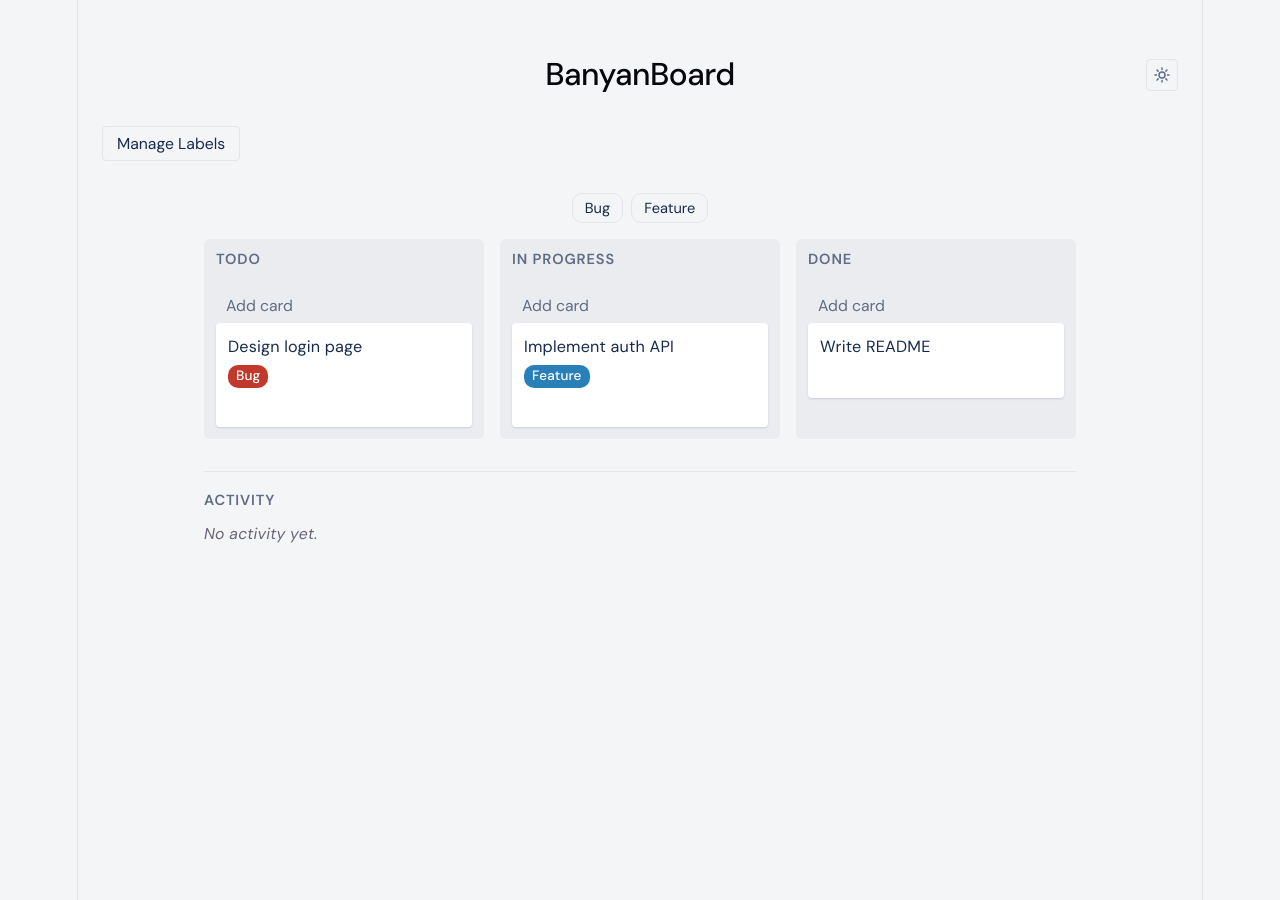
Test: Board label filtering › shows all cards when the filter is cleared
Expected: the text "Design login page" is shown, [228,336,362,357]
Click the button "Bug" at (597, 208), box [572,193,623,223]
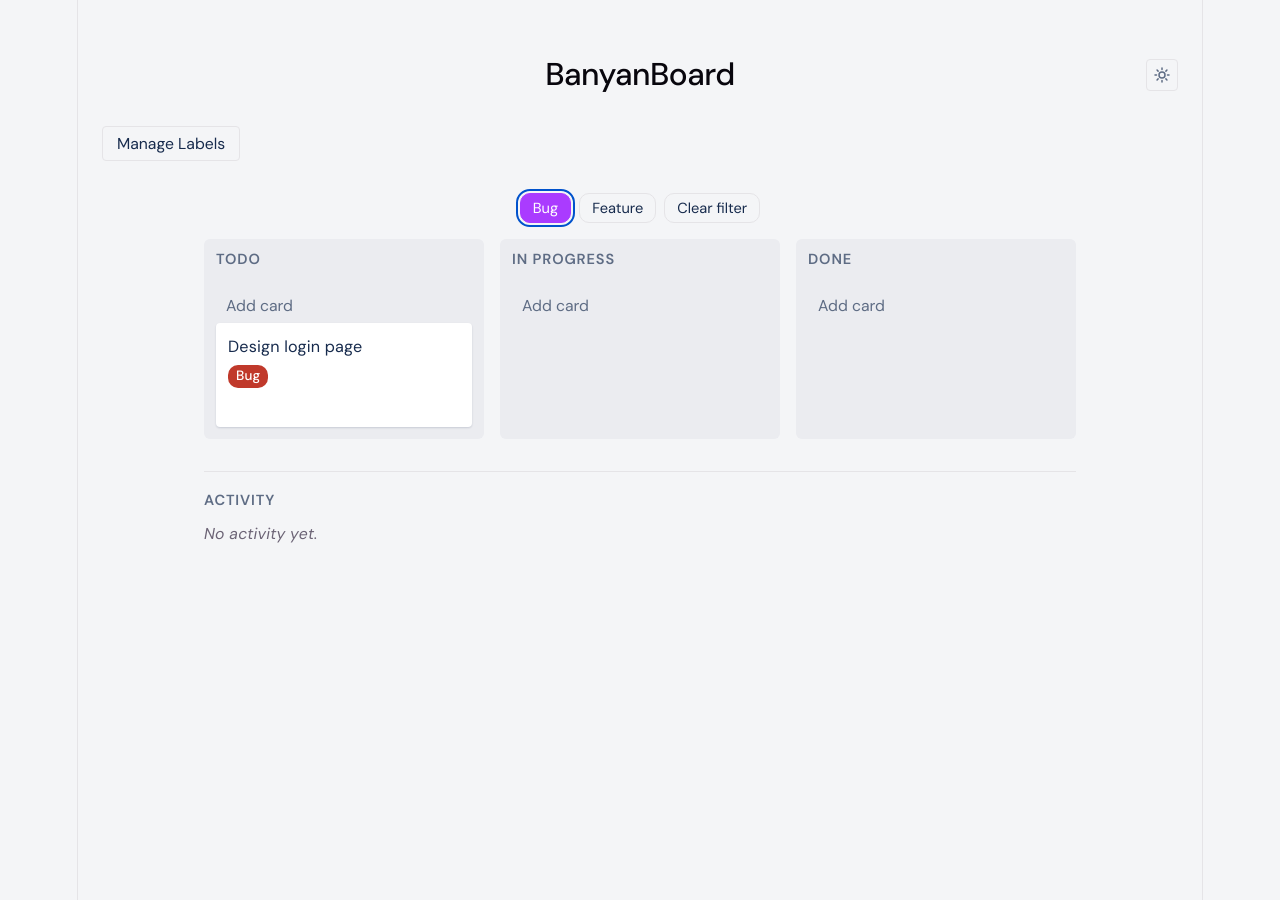
Click the button "Clear filter" at (712, 208), box [664,193,760,223]
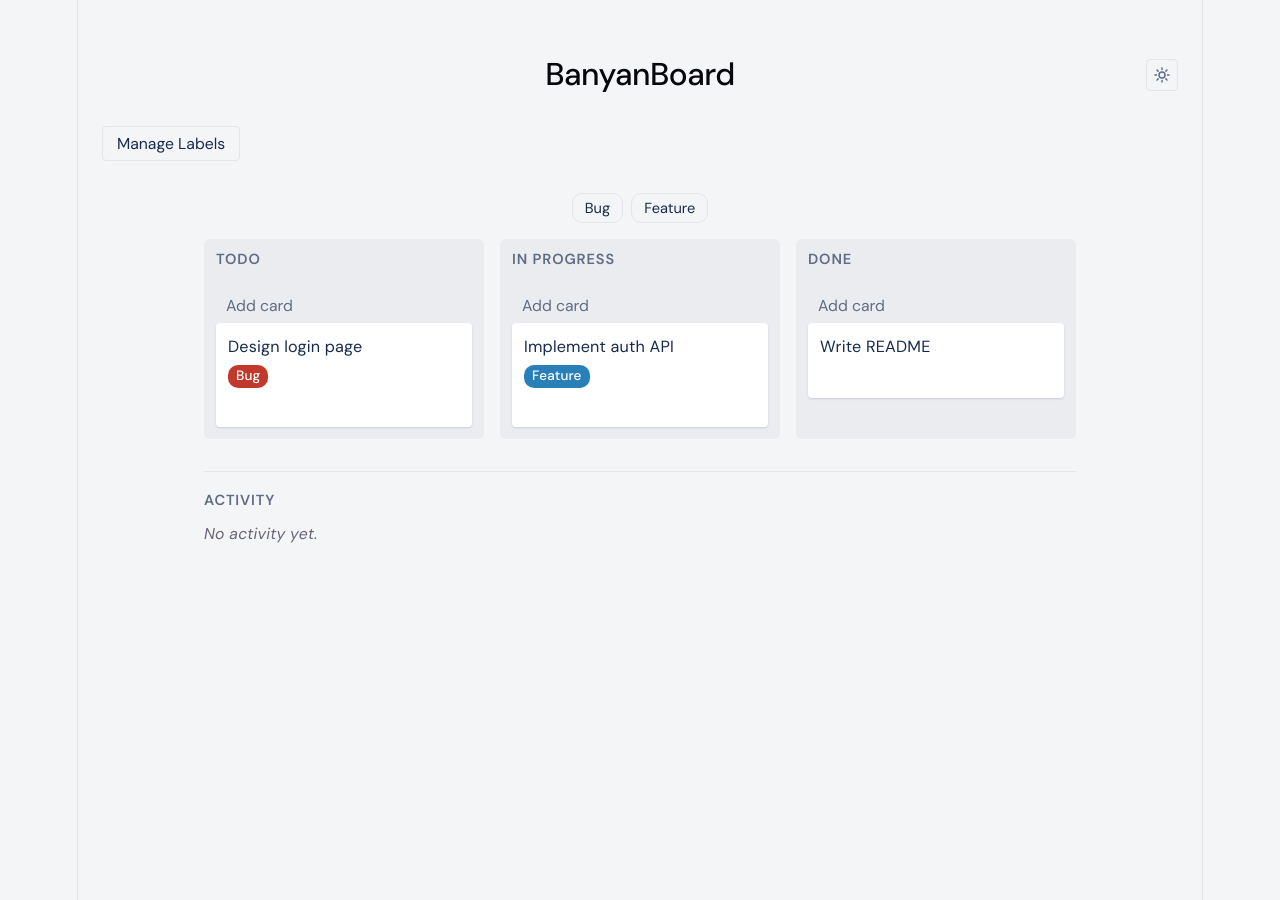
Expected: the text "Design login page" is shown, [228,336,362,357]
Expected: the text "Implement auth API" is shown, [524,336,674,357]
Expected: the text "Write README" is shown, [820,336,930,357]
